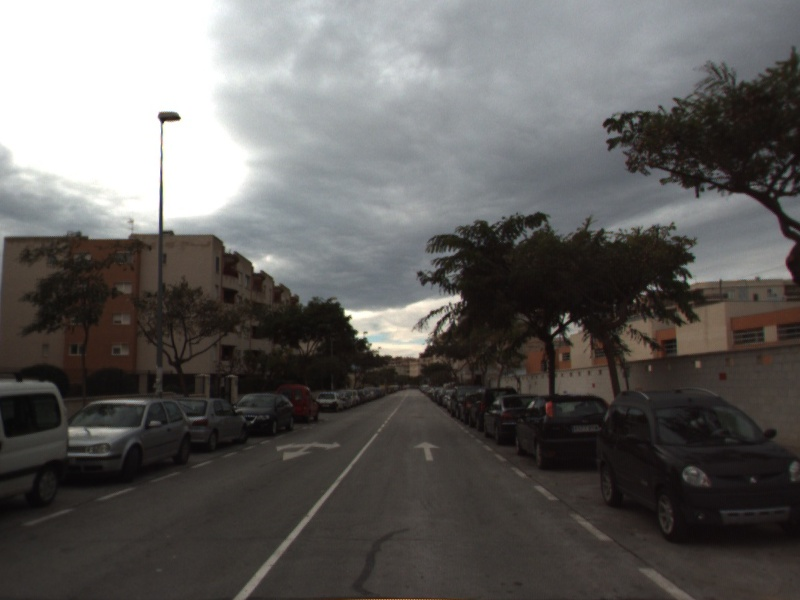STRAIGHT: (412, 439, 443, 462)
